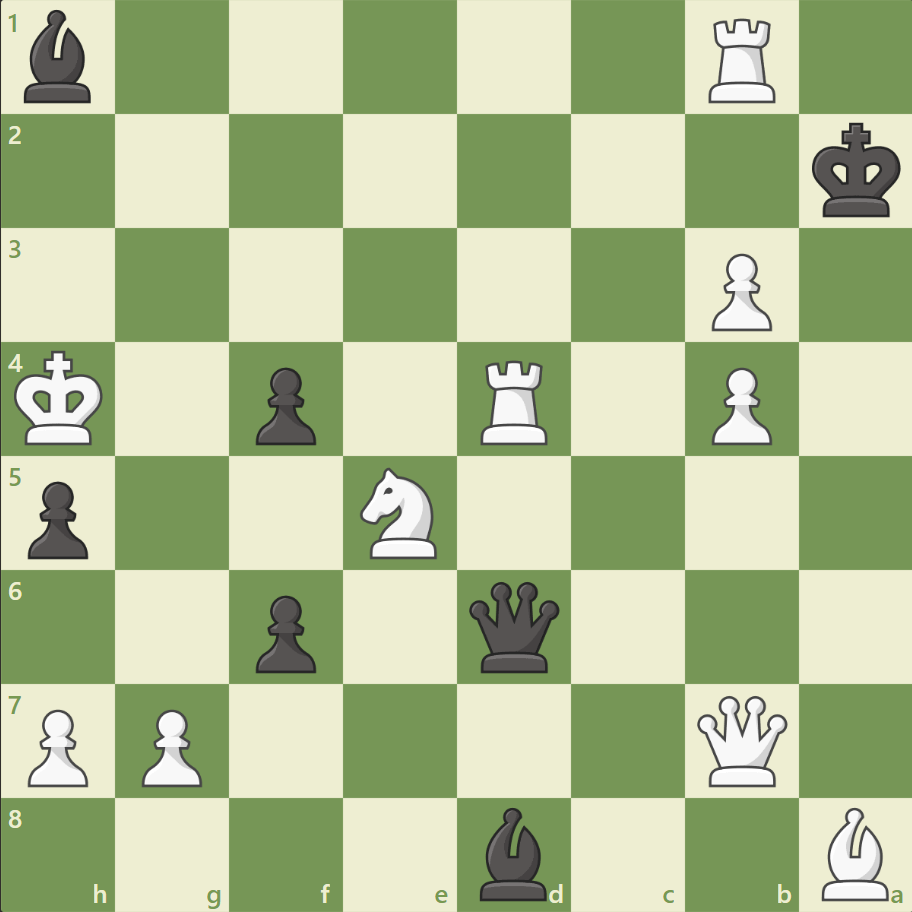B: (812, 801, 896, 904)
K: (11, 344, 111, 452)
N: (351, 461, 449, 564)
P: (133, 700, 208, 791), (20, 700, 95, 791), (701, 359, 776, 450), (701, 246, 776, 337)
Q: (691, 690, 790, 789)
R: (473, 352, 556, 449), (700, 12, 783, 109)
b: (471, 801, 555, 904), (17, 6, 101, 109)
k: (806, 117, 906, 225)
p: (247, 586, 322, 677), (20, 473, 95, 564), (247, 359, 322, 450)
q: (464, 576, 563, 676)
